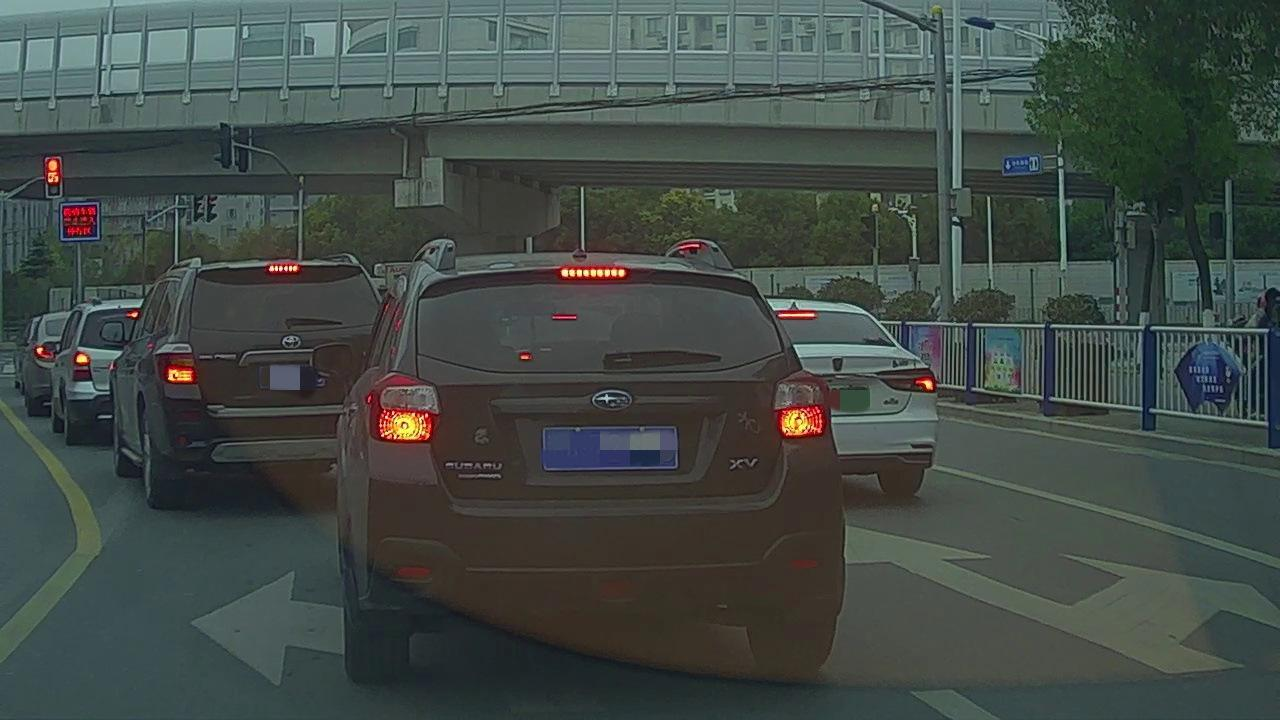traffic_light: (45, 157, 63, 196)
